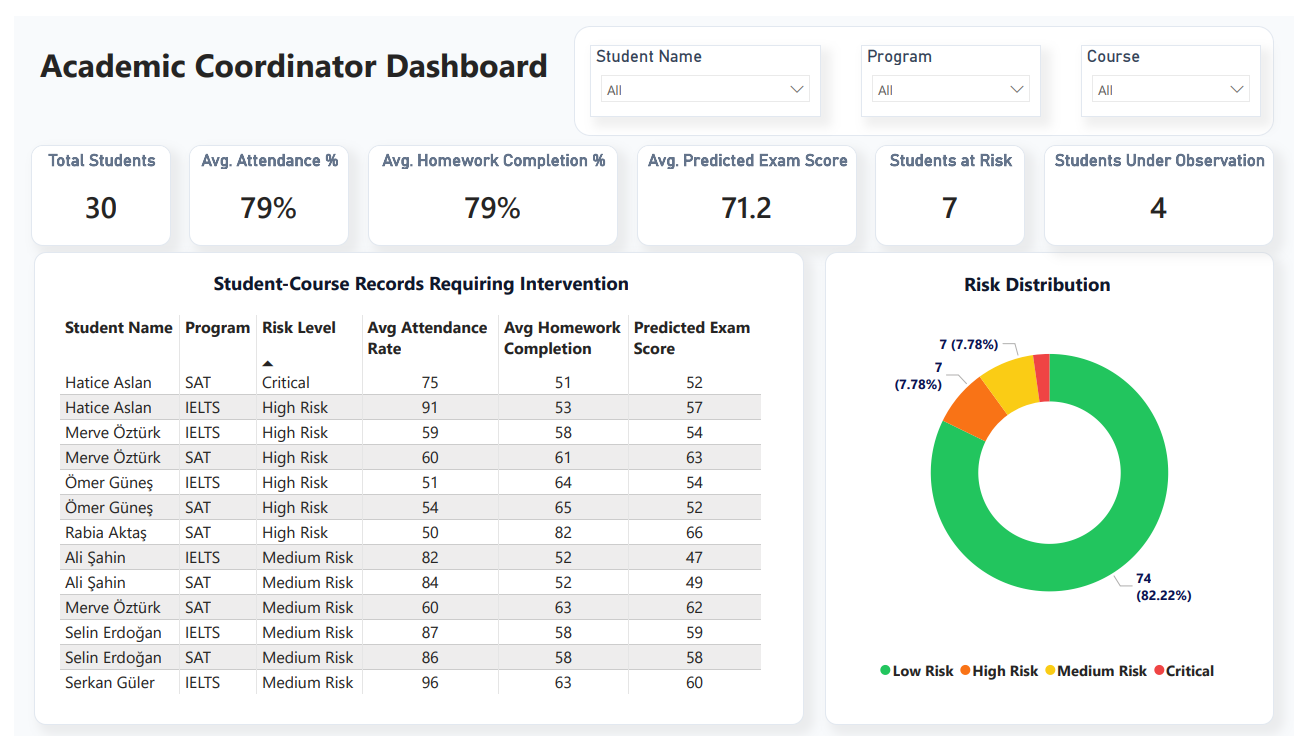

The page's visual inventory and layout, read from the dashboard file:
{"tool":"powerbi","page":{"name":"Academic Coordinator Dashboard","canvas":[1280,720],"ordinal":2},"visuals":[{"type":"textbox","box":[20.6,20.6,521.4,96.1],"z":0},{"type":"shape","box":[560,10,700,110],"z":1000,"group":"g3"},{"type":"cardVisual","title":"Total Students","fields":{"Data":["Dax.Total Students"]},"box":[16.7,129.4,140,100.5],"z":1000},{"type":"slicer","title":"Student Name","fields":{"Values":["HubPrep_Data.Student_Name"]},"box":[576,29.5,230.6,71],"z":2000,"group":"g3"},{"type":"cardVisual","title":"Avg. Homework Completion %","fields":{"Data":["Dax.Homework Display"]},"box":[354.1,129.4,250,100.2],"z":2000},{"type":"slicer","title":"Program","fields":{"Values":["HubPrep_Data.Program"]},"box":[847,29.5,180,71],"z":3000,"group":"g3"},{"type":"cardVisual","title":"Students at Risk","fields":{"Data":["Dax.Students At Risk"]},"box":[861.4,129.4,150,100.2],"z":3000},{"type":"slicer","title":"Course","fields":{"Values":["HubPrep_Data.Course"]},"box":[1067.4,29.5,179.8,71],"z":4000,"group":"g3"},{"type":"cardVisual","title":"Avg. Predicted Exam Score","fields":{"Data":["Dax.Average Predicted Exam Score"]},"box":[622.8,129.4,220,100.2],"z":4000},{"type":"cardVisual","title":"Avg. Attendance %","fields":{"Data":["Dax.Attendance Display"]},"box":[175.4,129.4,160,100.2],"z":5000},{"type":"group","id":"g1","title":"Group 3","box":[810.6,236,449.1,473.2],"z":6000},{"type":"group","id":"g2","title":"Group 4","box":[19.8,235.9,770.1,473.3],"z":8000},{"type":"shape","box":[19.8,235.9,770.1,473.3],"z":8750,"group":"g2"},{"type":"cardVisual","title":"Students Under Observation","fields":{"Data":["HubPrep_Data.Enrollments Under Observation"]},"box":[1030.1,129.4,229.6,100.2],"z":9000},{"type":"group","id":"g3","title":"Group 1","box":[560,10,700,110],"z":9001},{"type":"group","id":"g4","title":"Group 2","box":[810.6,236,449,473.3],"z":9001,"group":"g1"},{"type":"tableEx","fields":{"Values":["HubPrep_Data.Student_Name","HubPrep_Data.Program","HubPrep_Data.Risk Level Column","Avg(HubPrep_Data.Attendance_Rate_%)","Avg(HubPrep_Data.Homework_Completion_%)","Dax.Predicted Exam Score"]},"box":[39.9,293.9,729,392.7],"z":9501,"group":"g2"},{"type":"shape","box":[810.6,236,449,473.3],"z":11000,"group":"g4"},{"type":"textbox","box":[190.3,249.1,434.5,47.6],"z":12000,"group":"g2"},{"type":"textbox","box":[879.2,250.4,287.3,42.7],"z":12000,"group":"g4"},{"type":"donutChart","fields":{"Category":["HubPrep_Data.Risk Level Column"],"Y":["CountNonNull(HubPrep_Data.Risk Level Column)"]},"box":[840.7,269.8,389.1,404.2],"z":17000,"group":"g4"}]}

Visuals, with their boxes in screenshot pixels (x1, y1, x2, y2), scaled from the page's 1280x720 canvas onto the 1305x752 screenshot:
textbox: [left=21, top=22, right=553, bottom=122]
shape: [left=571, top=10, right=1285, bottom=125]
"Total Students" cardVisual: [left=17, top=135, right=160, bottom=240]
"Student Name" slicer: [left=587, top=31, right=822, bottom=105]
"Avg. Homework Completion %" cardVisual: [left=361, top=135, right=616, bottom=240]
"Program" slicer: [left=864, top=31, right=1047, bottom=105]
"Students at Risk" cardVisual: [left=878, top=135, right=1031, bottom=240]
"Course" slicer: [left=1088, top=31, right=1272, bottom=105]
"Avg. Predicted Exam Score" cardVisual: [left=635, top=135, right=859, bottom=240]
"Avg. Attendance %" cardVisual: [left=179, top=135, right=342, bottom=240]
"Group 3" group: [left=826, top=246, right=1284, bottom=741]
"Group 4" group: [left=20, top=246, right=805, bottom=741]
shape: [left=20, top=246, right=805, bottom=741]
"Students Under Observation" cardVisual: [left=1050, top=135, right=1284, bottom=240]
"Group 1" group: [left=571, top=10, right=1285, bottom=125]
"Group 2" group: [left=826, top=246, right=1284, bottom=741]
tableEx - HubPrep_Data.Student_Name x HubPrep_Data.Program: [left=41, top=307, right=784, bottom=717]
shape: [left=826, top=246, right=1284, bottom=741]
textbox: [left=194, top=260, right=637, bottom=310]
textbox: [left=896, top=262, right=1189, bottom=306]
donutChart - HubPrep_Data.Risk Level Column x CountNonNull(HubPrep_Data.Risk Level Column): [left=857, top=282, right=1254, bottom=704]
